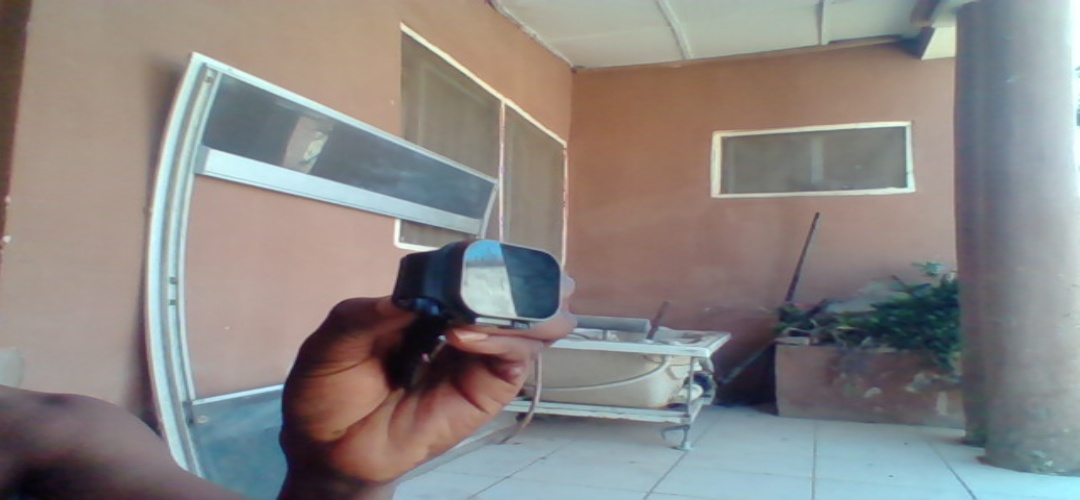smart_watch: (396, 237, 566, 331)
